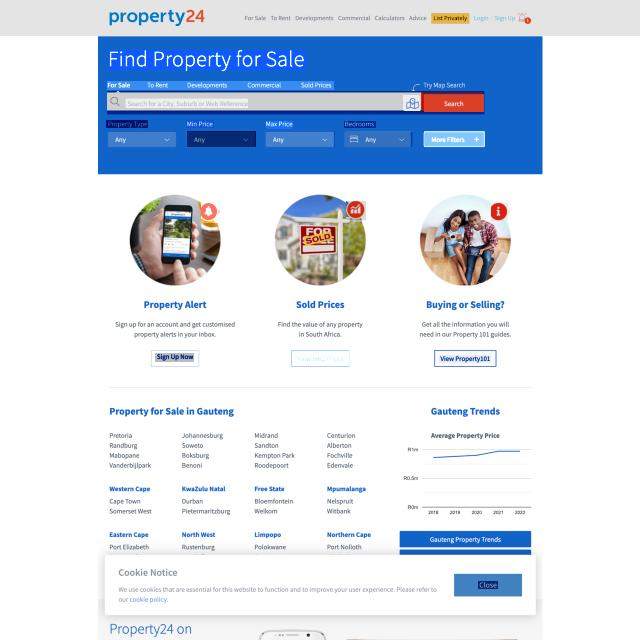CheckBox: (454, 574, 522, 597), (433, 349, 497, 367), (424, 94, 484, 112), (291, 349, 350, 367), (150, 348, 200, 368), (424, 131, 485, 147)
CheckedTextView: (108, 92, 486, 115)
RadioButton: (346, 202, 366, 222), (202, 201, 220, 223), (492, 203, 509, 221)
alert: (187, 131, 256, 147), (266, 131, 335, 147), (108, 131, 176, 147), (346, 132, 414, 147)
bag: (0, 0, 640, 36)
carousel: (404, 96, 420, 111)
data feed: (296, 354, 344, 364), (439, 355, 491, 363), (155, 354, 194, 364), (106, 120, 148, 128), (186, 120, 214, 128), (344, 121, 376, 128), (266, 121, 293, 129), (478, 581, 498, 589)
date picker: (102, 5, 207, 30)
decoration: (241, 11, 516, 23), (107, 81, 336, 90)
footer: (126, 99, 248, 108)
header: (105, 555, 536, 615)
image: (108, 50, 306, 70)
